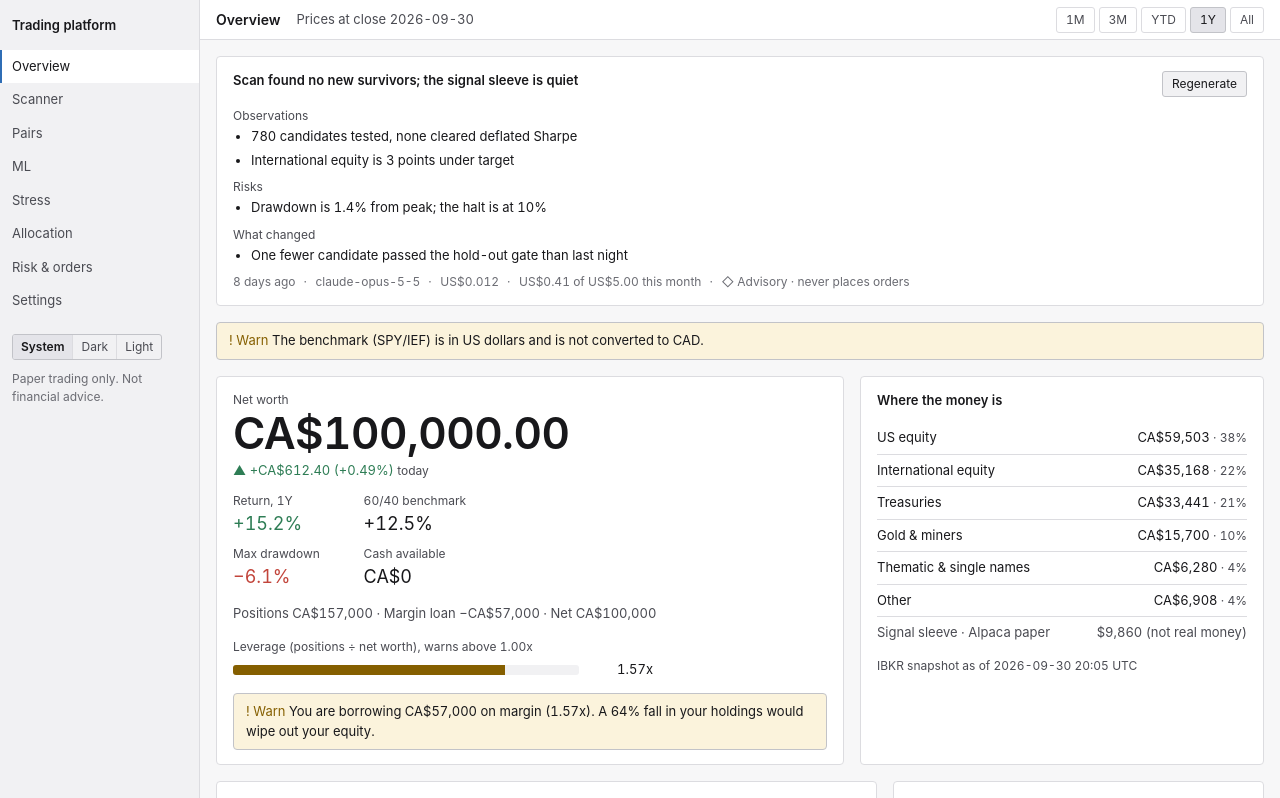
app shell › routes each nav item and puts the page title in the header bar
The width and height of the screenshot is (1280, 798).
Expected: the heading "Overview" is shown, 216,9 -> 280,30
Click the link "Allocation".
click(42, 233)  # box 12,225 -> 73,241
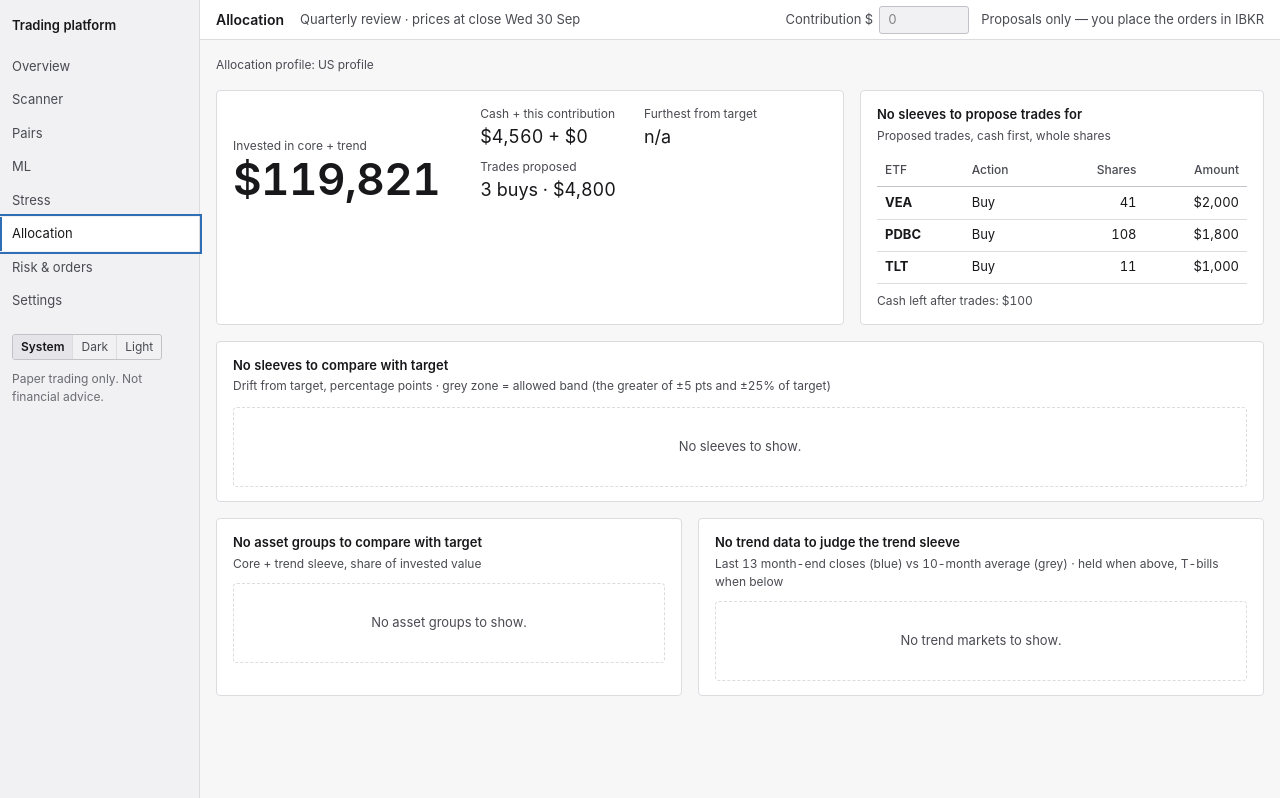
Result: the heading "Allocation" is shown at 216,9 -> 284,30
Click the link "Risk & orders".
click(52, 266)  # box 12,258 -> 93,274
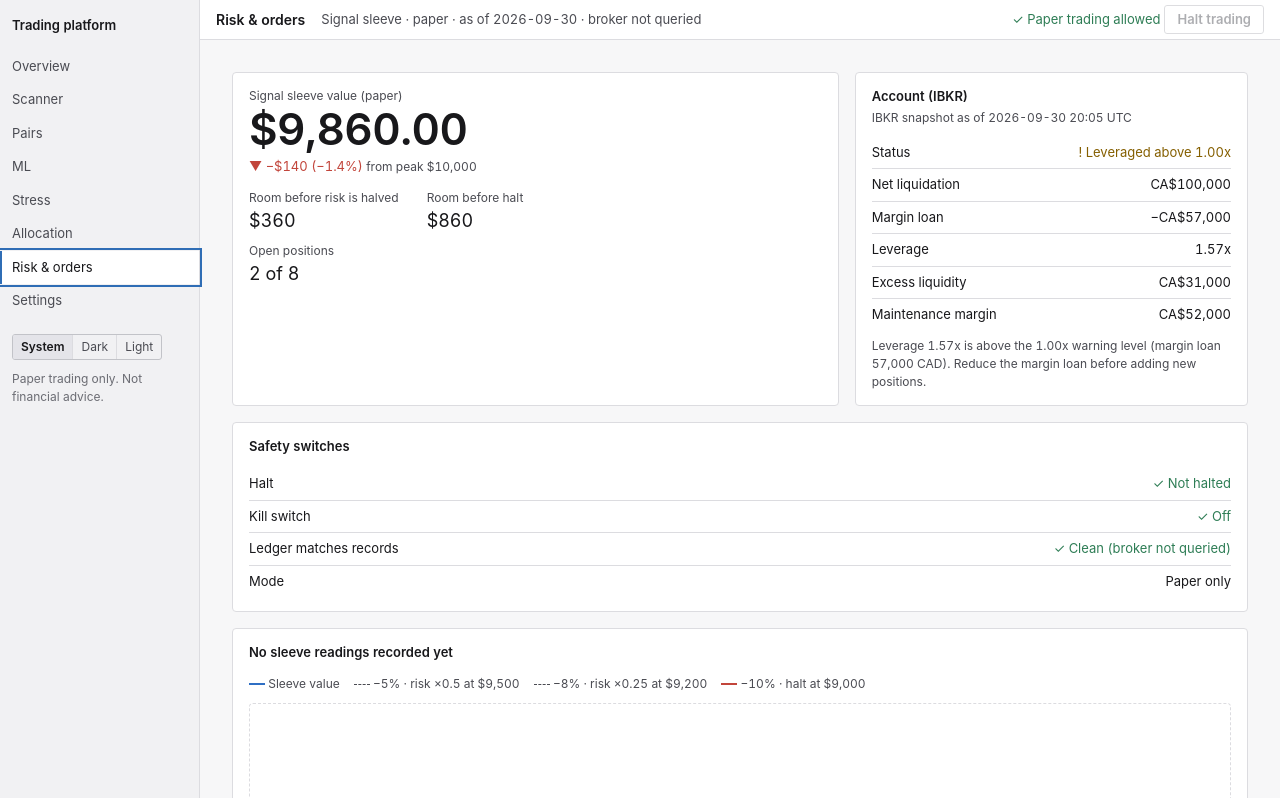
Result: the heading "Risk & orders" is shown at 216,9 -> 305,30
